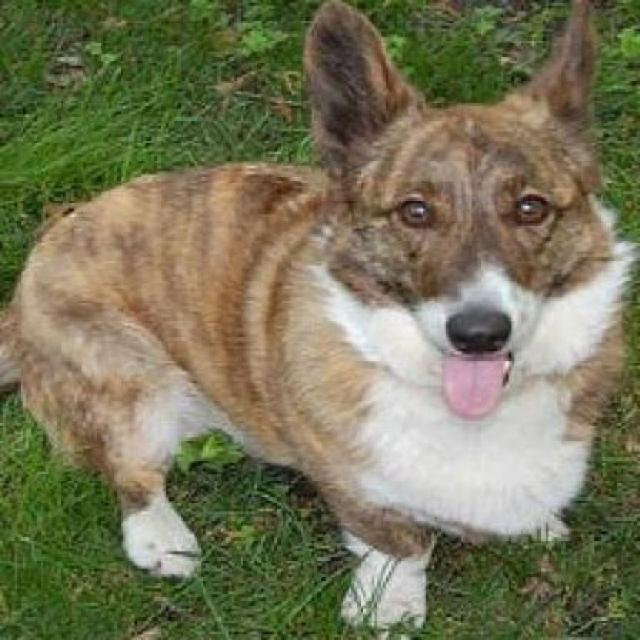Dog: (1, 3, 638, 639)
